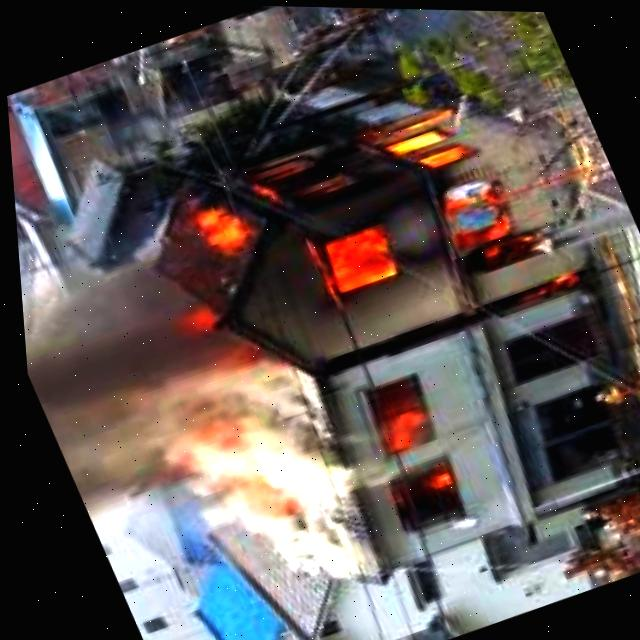Fire: (165, 68, 563, 360), (349, 368, 459, 527)
Smoke: (12, 207, 388, 640)
